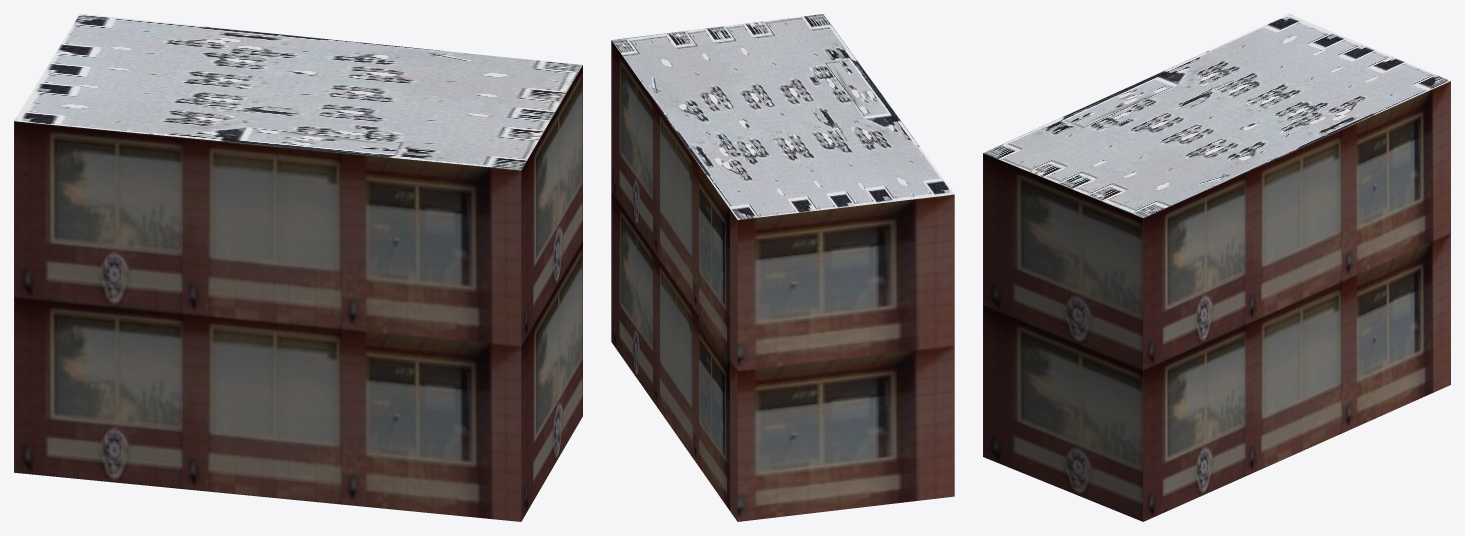
Rendered from ResTex__2520.fbx.
3 views of the same model, side by side, from view 1: azimuth 30°, elevation 25°; view 2: azimuth 150°, elevation 25°; view 3: azimuth 270°, elevation 25° (orthographic). The views are drawn at different scales.
Parts seen in each view (by area): view 1: CityEngineMaterial_13_m, CityEngineMaterial_8_m; view 2: CityEngineMaterial_13_m, CityEngineMaterial_8_m; view 3: CityEngineMaterial_13_m, CityEngineMaterial_8_m.
Boxes of the visible parts, bbox=[...] form: CityEngineMaterial_13_m: bbox=[14, 65, 582, 521]; CityEngineMaterial_8_m: bbox=[14, 14, 582, 170]; CityEngineMaterial_13_m: bbox=[611, 40, 954, 521]; CityEngineMaterial_8_m: bbox=[611, 14, 954, 219]; CityEngineMaterial_13_m: bbox=[983, 81, 1450, 521]; CityEngineMaterial_8_m: bbox=[983, 14, 1450, 217].
Bounding box in the file's own units: 8.65 × 6 × 8.38.
2 materials, 2 textured.
